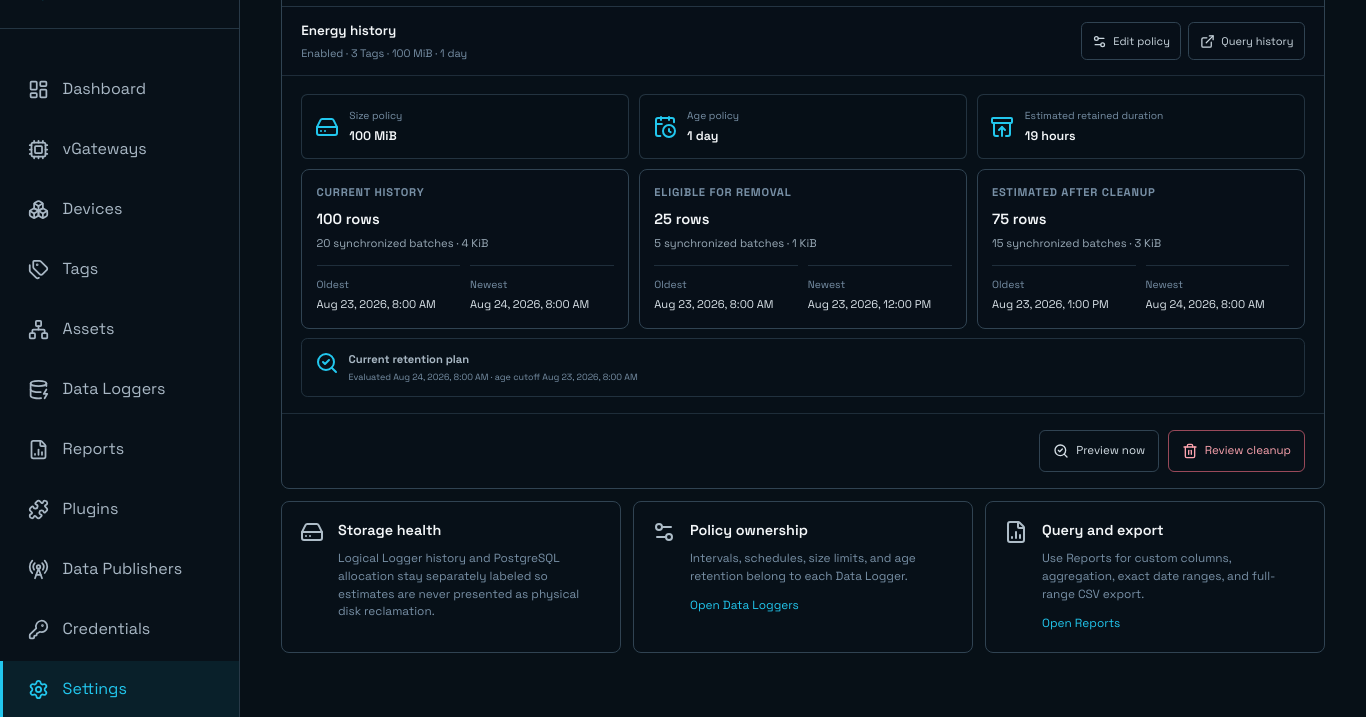
Scenario: DataManagementSettingsPage › keeps cleanup failures inside the confirmation dialog
(page scrolled)
Check: the text "Eligible for removal" is shown, box [654,185,792,199]
Click the button "Review cleanup". click: (1236, 451)
box: [1168,430,1305,472]
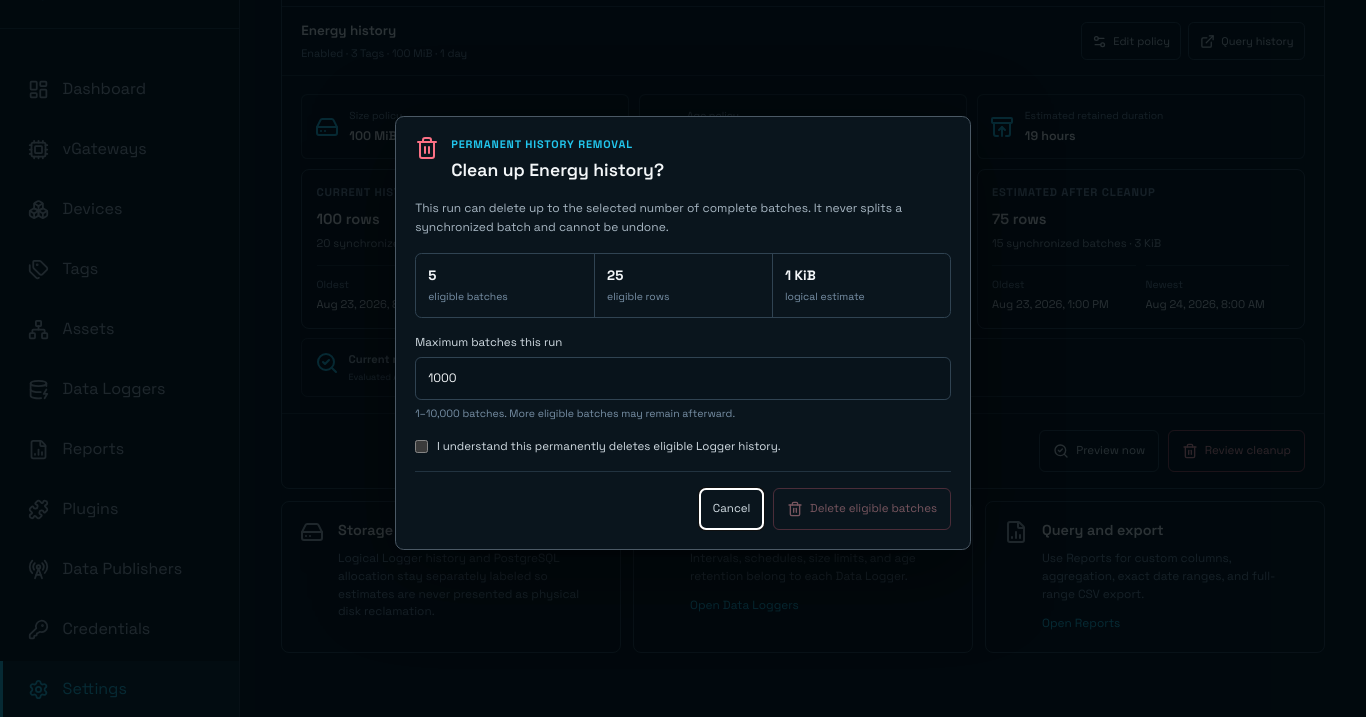
Click the checkbox labelled "permanently deletes". click: (422, 447)
box: [415,440,428,453]
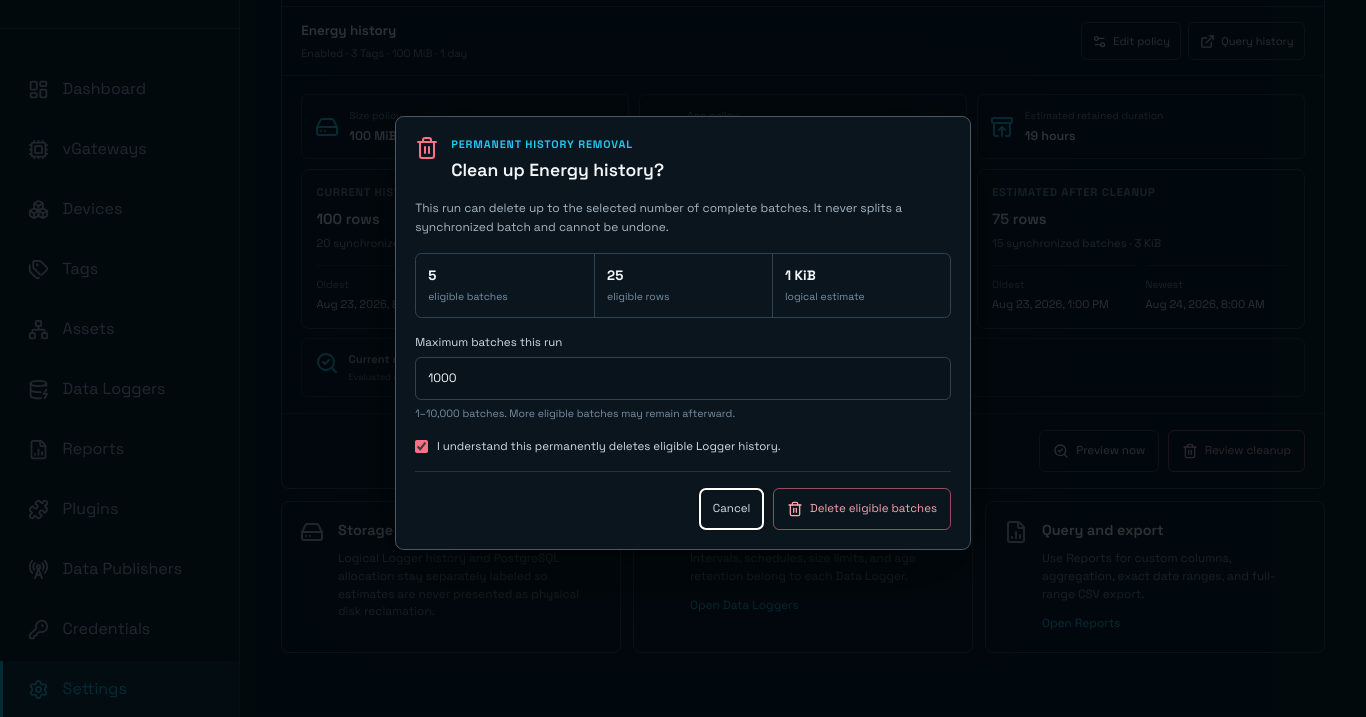
Click the button "Delete eligible batches". click: (862, 509)
box: [773,488,951,530]
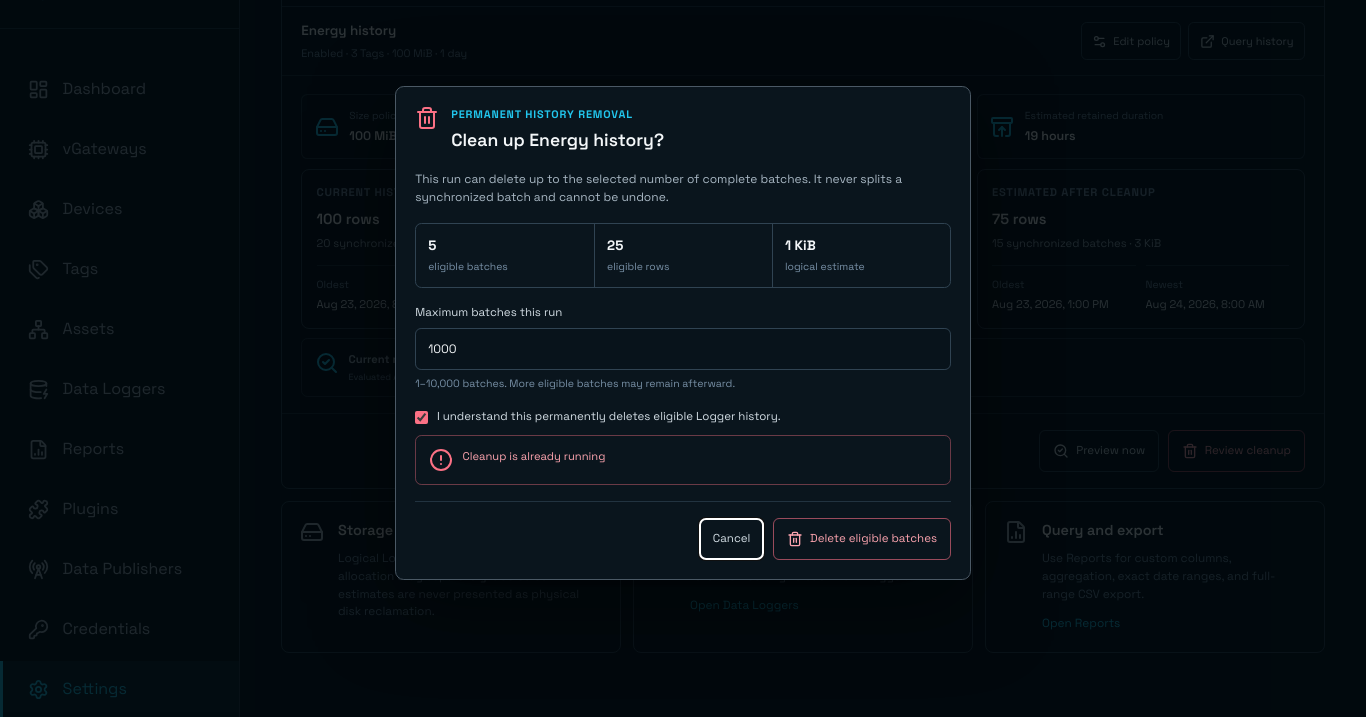
Check: the dialog is shown, box [395,86,971,580]
Check: the message reads "Cleanup is already running", box [463,448,605,462]
